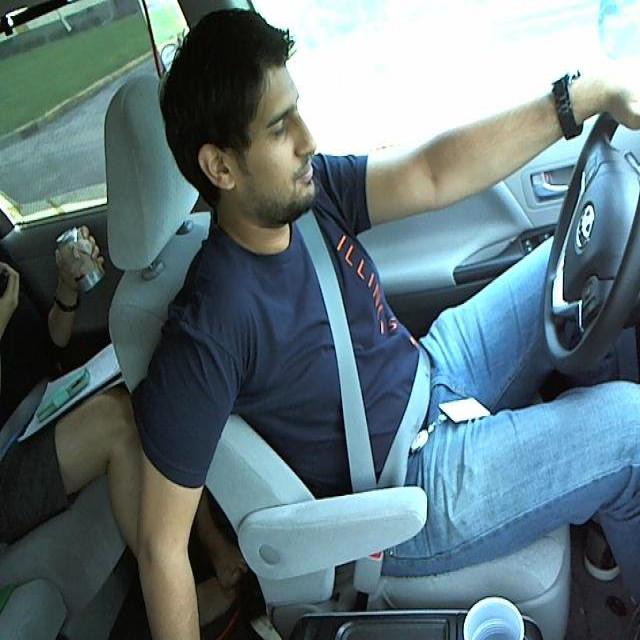seatbelt: (294, 231, 443, 525)
